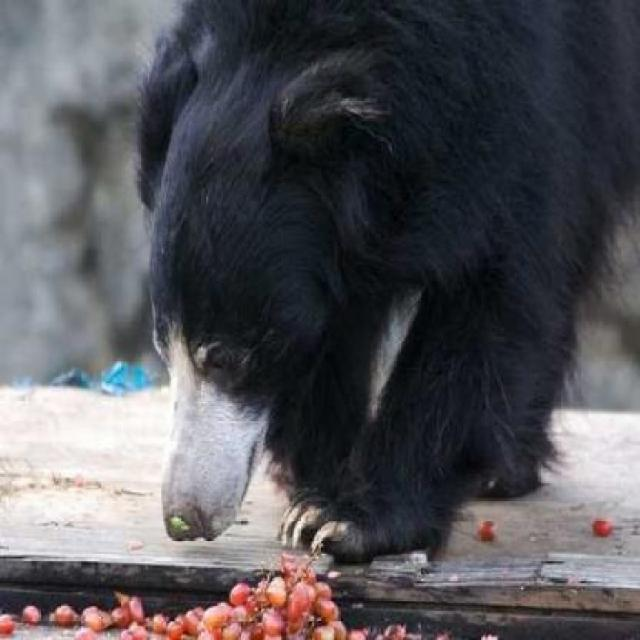Bear: (108, 2, 640, 578)
